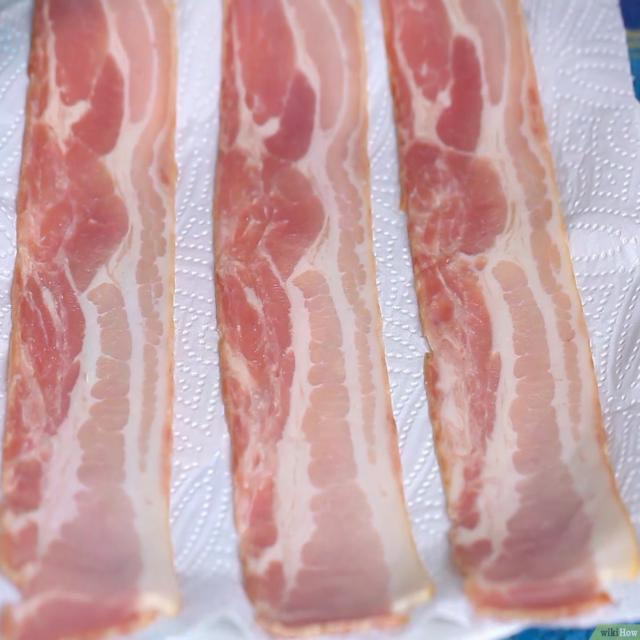Bacon Slice: (1, 0, 640, 640)
